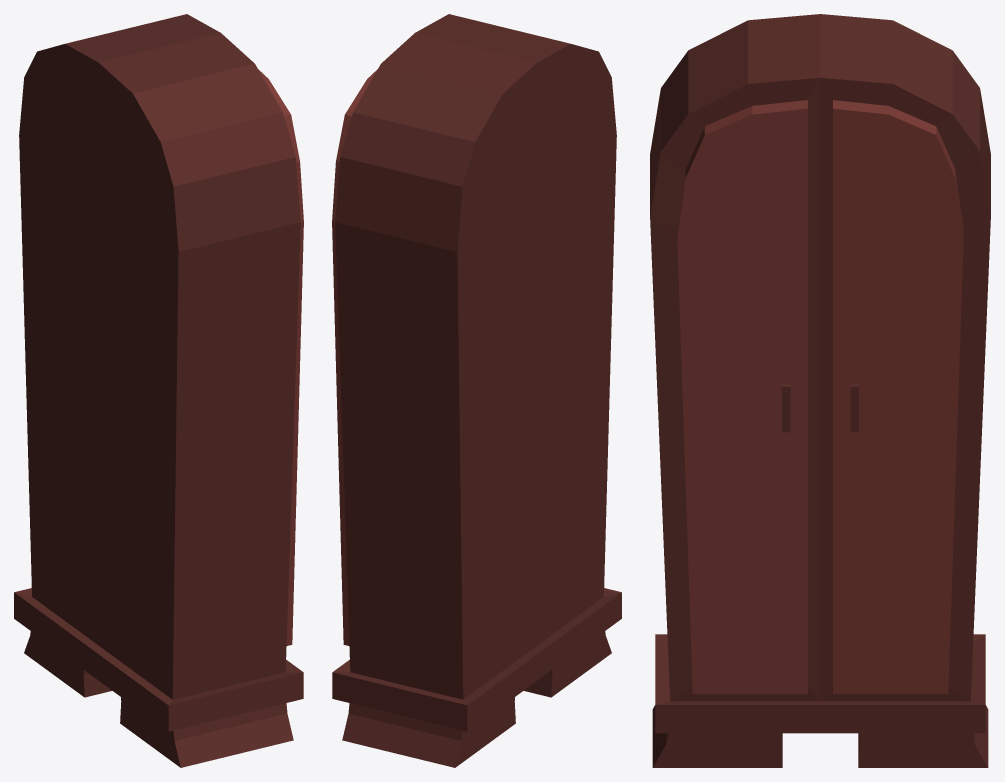
Rendered from quaternius-furniture-closet.glb.
3 renders of one model, left to right at view 1: azimuth 30°, elevation 25°; view 2: azimuth 150°, elevation 25°; view 3: azimuth 270°, elevation 25°, orthographic. The views are drawn at different scales.
Visible parts, largest first — view 1: Closet1; view 2: Closet1; view 3: Closet1.
Boxes of the visible parts, box(x1,y1,x2,y2) form: Closet1: box(14, 14, 303, 767); Closet1: box(332, 14, 621, 767); Closet1: box(650, 14, 990, 767).
Bounding box in the file's own units: 0.3532 × 1.48 × 0.6604.
